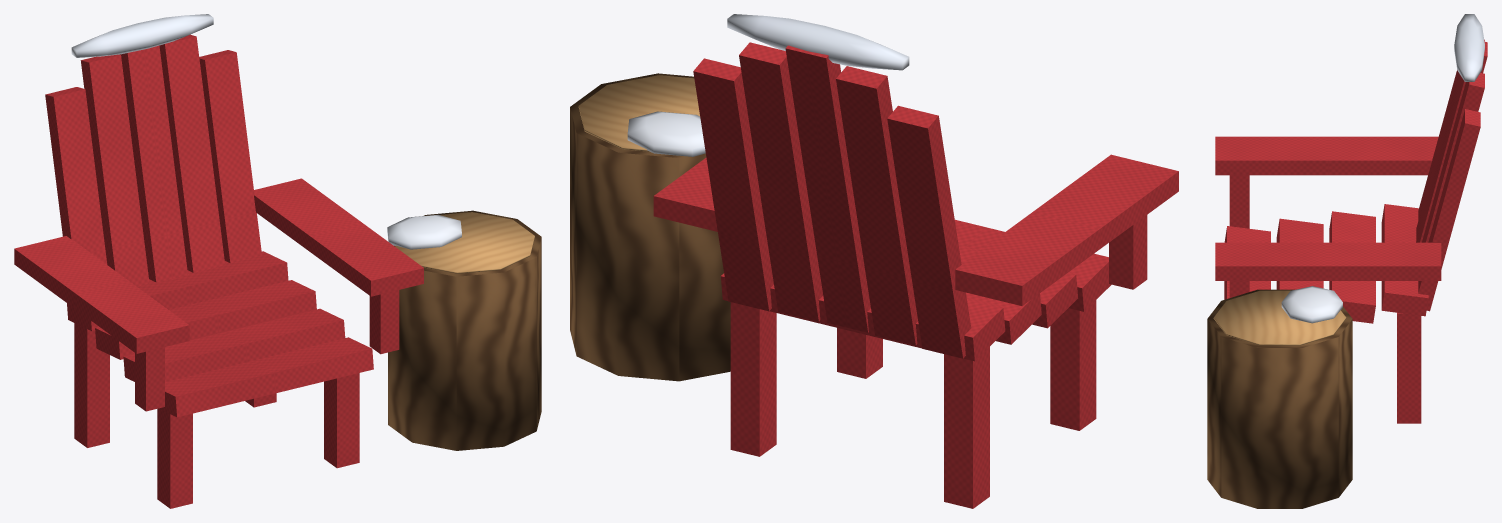
Rendered from fire-chair.glb.
3 views of the same model, side by side, from view 1: azimuth 30°, elevation 25°; view 2: azimuth 150°, elevation 25°; view 3: azimuth 270°, elevation 25° (orthographic). The views are drawn at different scales.
Parts seen in each view (by area): view 1: Muskoka, Stump, StumpTop, MuskokaSnow, StumpSnow; view 2: Muskoka, Stump, StumpTop, MuskokaSnow, StumpSnow; view 3: Muskoka, Stump, StumpTop, StumpSnow, MuskokaSnow.
Part boxes in pixels (x1,y1,x2,y2): Muskoka: [14, 34, 423, 508]; Stump: [388, 210, 541, 450]; StumpTop: [395, 212, 534, 273]; MuskokaSnow: [71, 14, 213, 57]; StumpSnow: [387, 214, 461, 249]; Muskoka: [653, 42, 1178, 508]; Stump: [570, 73, 730, 381]; StumpTop: [578, 75, 699, 151]; MuskokaSnow: [727, 14, 909, 70]; StumpSnow: [627, 111, 705, 156]; Muskoka: [1215, 39, 1487, 423]; Stump: [1207, 289, 1352, 508]; StumpTop: [1213, 290, 1346, 345]; StumpSnow: [1281, 286, 1342, 323]; MuskokaSnow: [1454, 14, 1484, 81].
Bounding box in the file's own units: 0.0566 × 0.0469 × 0.0347.
4 materials, 4 textured.
